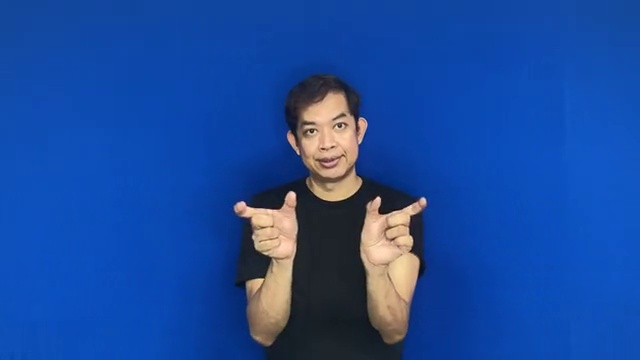crab: (227, 186, 432, 269)
